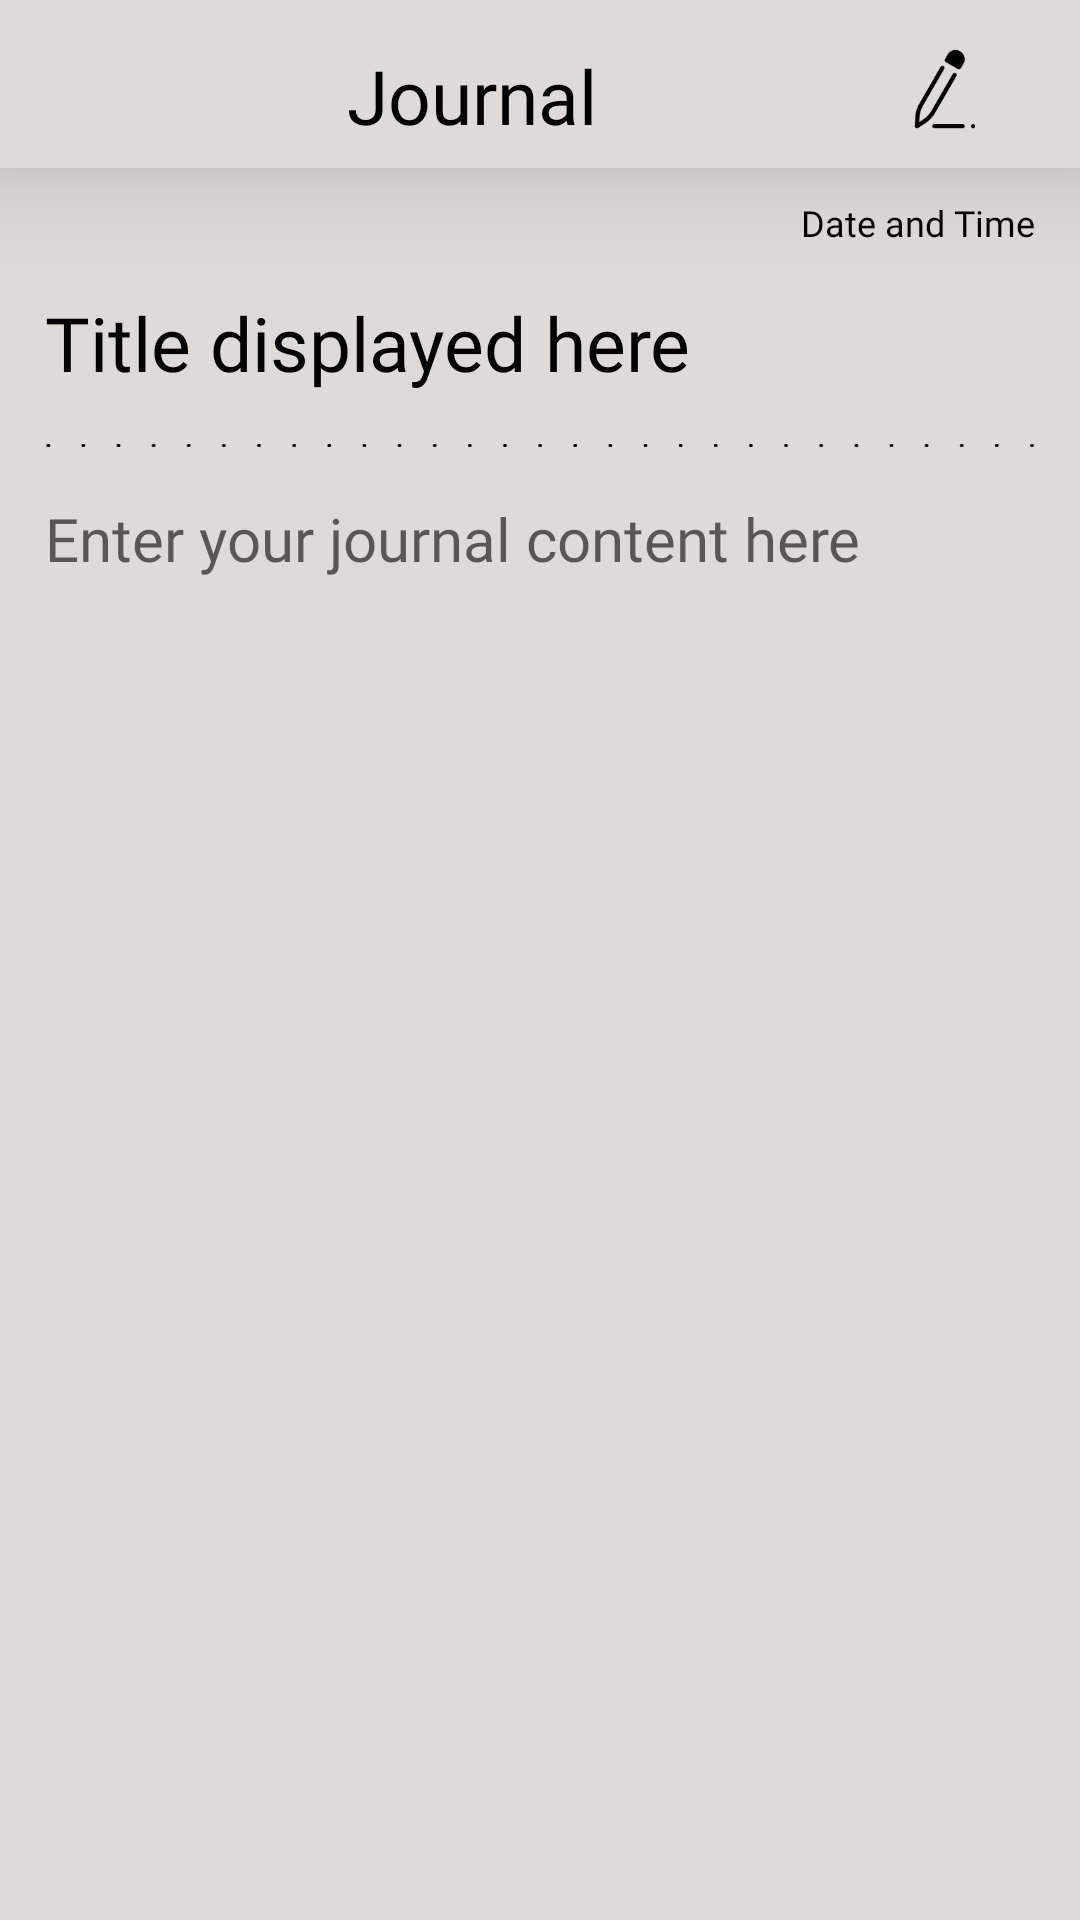

Screen size 1080px x 1920px. Icon name, then its box in pixels as (x1, y1, x2, y2):
edit note: (914, 49, 975, 129)
